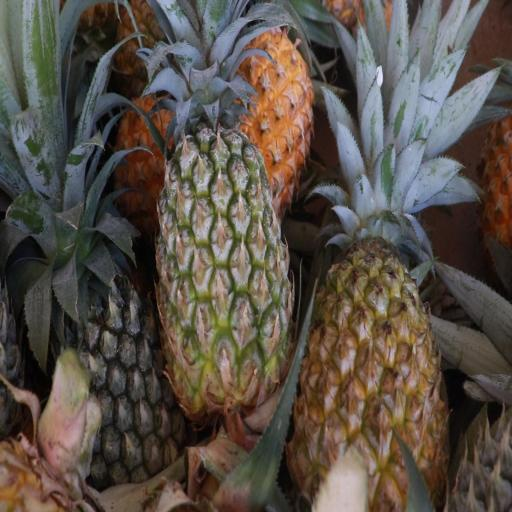------------------------------: (158, 116, 288, 407)
Pineapple - v8 v1: (294, 179, 444, 512), (155, 12, 315, 173)
